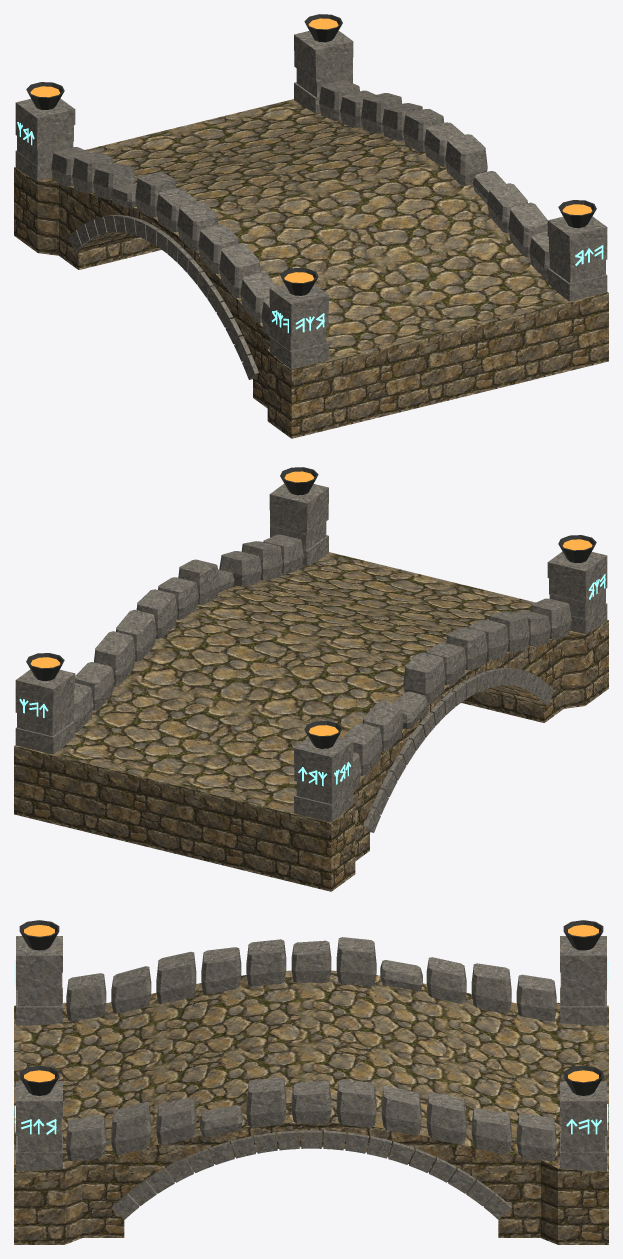
Rendered from bridge-stone2.glb.
3 views of the same model, one above another, from view 1: azimuth 30°, elevation 25°; view 2: azimuth 150°, elevation 25°; view 3: azimuth 270°, elevation 25° (orthographic). The views are drawn at different scales.
Visible parts, largest first — view 1: body, parapet, posts, wings, voussoirs, runes, bowl0, bowl3, bowl1, bowl2; view 2: body, parapet, posts, wings, voussoirs, runes, bowl1, bowl2, bowl0, bowl3; view 3: body, parapet, posts, wings, voussoirs, bowl0, bowl1, bowl2, bowl3, runes.
Boxes of the visible parts, box(x1,y1,x2,y2) form: body: box(50, 99, 595, 435); parapet: box(51, 80, 549, 336); posts: box(15, 30, 607, 369); wings: box(14, 167, 608, 438); voussoirs: box(68, 215, 258, 379); runes: box(17, 122, 603, 332); bowl0: box(280, 268, 318, 295); bowl3: box(304, 14, 342, 42); bowl1: box(26, 82, 64, 109); bowl2: box(558, 200, 596, 227); body: box(27, 552, 572, 888); parapet: box(73, 534, 571, 789); posts: box(15, 483, 607, 822); wings: box(14, 620, 608, 891); voussoirs: box(364, 668, 554, 832); runes: box(19, 574, 605, 786); bowl1: box(304, 721, 342, 748); bowl2: box(280, 467, 318, 495); bowl0: box(558, 535, 596, 562); bowl3: box(26, 653, 64, 680); body: box(14, 970, 608, 1237); parapet: box(66, 937, 556, 1161); posts: box(16, 936, 606, 1171); wings: box(14, 1002, 608, 1244); voussoirs: box(111, 1130, 511, 1219); bowl0: box(19, 920, 59, 950); bowl1: box(563, 920, 603, 950); bowl2: box(19, 1065, 59, 1095); bowl3: box(563, 1065, 603, 1095); runes: box(14, 957, 608, 1134).
Bounding box in the file's own units: 4.63 × 2.08 × 7.
6 materials, 3 textured.
